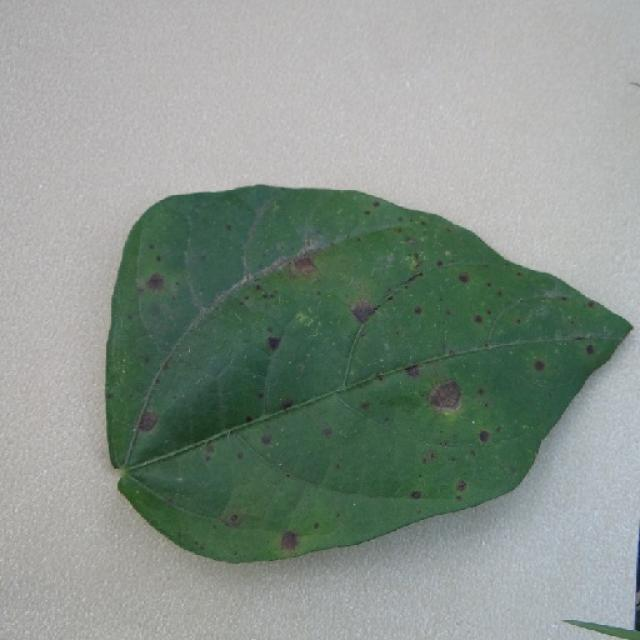Anthracnose: (428, 379, 463, 412), (295, 249, 321, 281), (349, 299, 377, 324), (247, 282, 277, 302), (136, 409, 160, 432), (279, 530, 300, 553), (145, 273, 166, 292), (294, 311, 316, 328), (222, 512, 243, 528), (160, 353, 176, 370), (266, 336, 281, 353), (404, 364, 421, 378), (408, 254, 422, 271), (543, 294, 569, 302), (303, 235, 316, 250), (280, 398, 294, 411), (533, 359, 545, 372), (478, 430, 490, 443), (424, 450, 437, 462), (457, 272, 471, 283), (385, 252, 396, 265), (261, 433, 272, 445), (322, 427, 333, 438), (359, 401, 371, 411), (205, 442, 215, 454), (457, 481, 467, 492), (585, 344, 595, 355), (165, 496, 176, 506), (404, 236, 416, 244), (573, 335, 589, 341), (375, 373, 385, 382), (411, 491, 422, 499), (586, 301, 597, 308), (474, 315, 483, 323), (245, 415, 254, 423), (298, 363, 305, 373), (414, 306, 422, 314), (106, 392, 114, 400), (436, 260, 444, 267), (225, 224, 232, 231), (155, 255, 162, 262), (313, 522, 320, 529), (334, 463, 341, 470), (237, 452, 244, 459), (372, 201, 380, 207), (496, 290, 503, 296), (267, 327, 273, 334), (364, 210, 371, 215), (486, 282, 492, 287)
Blackgram: (105, 185, 631, 566)
